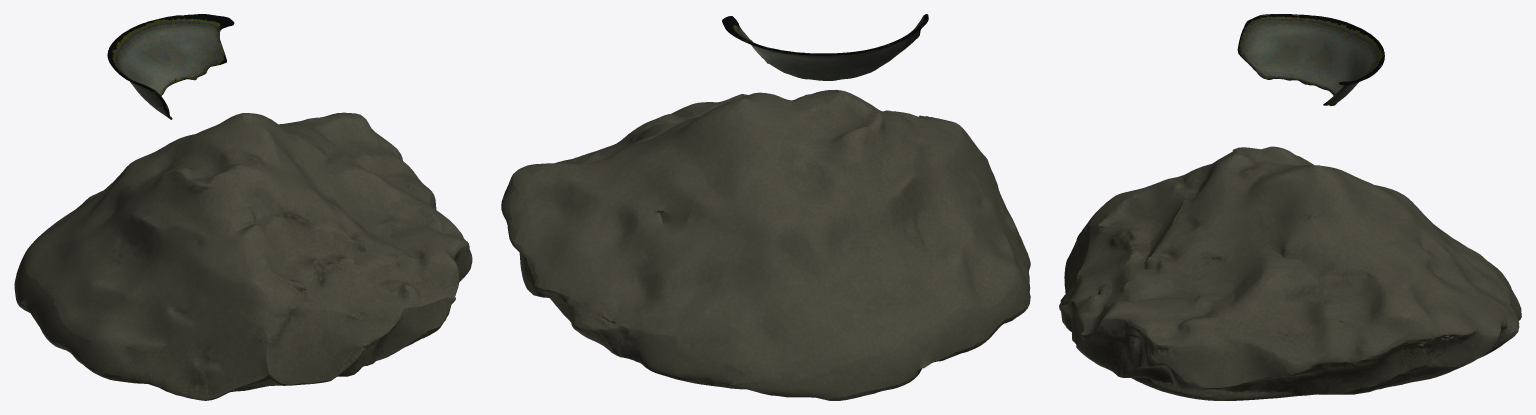
3 renders of one model, left to right at view 1: azimuth 30°, elevation 25°; view 2: azimuth 150°, elevation 25°; view 3: azimuth 270°, elevation 25°, orthographic. The views are drawn at different scales.
Visible parts, largest first — view 1: world; view 2: world; view 3: world.
Boxes of the visible parts, bbox=[...] form: world: bbox=[14, 14, 472, 400]; world: bbox=[501, 14, 1030, 400]; world: bbox=[1059, 14, 1521, 400].
Bounding box in the file's own units: 1.2 × 0.7893 × 1.24.
1 material, 1 textured.
